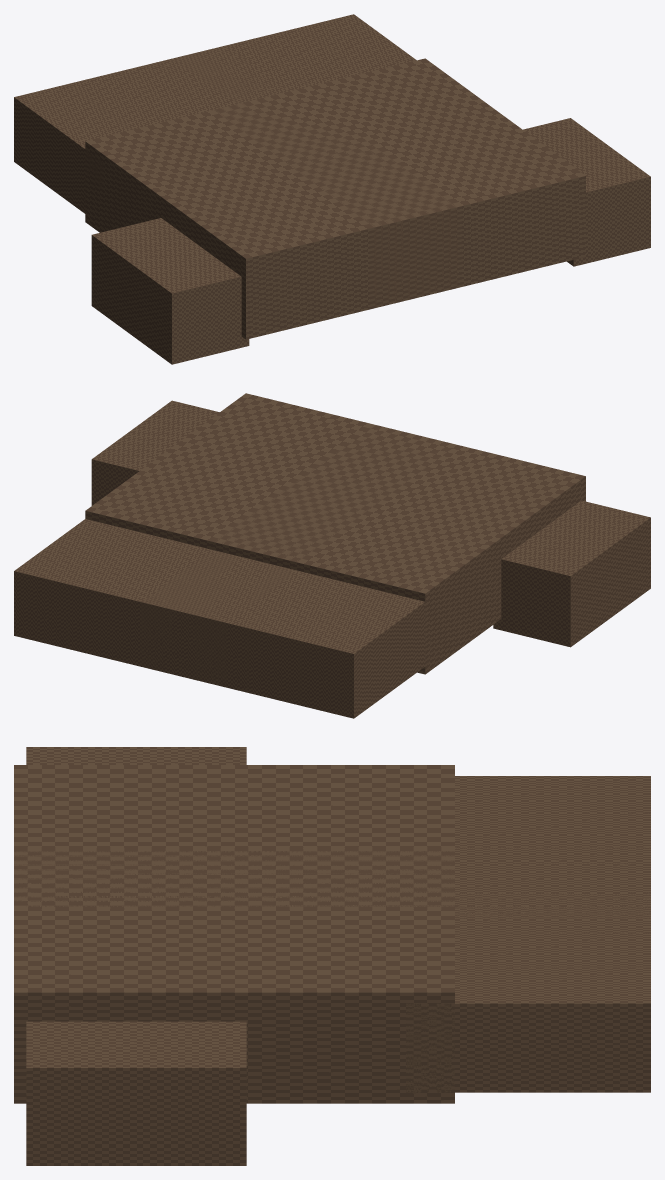
The model's file is hands.glb.
3 renders of one model, top to bottom at view 1: azimuth 30°, elevation 25°; view 2: azimuth 150°, elevation 25°; view 3: azimuth 270°, elevation 25°, orthographic. The views are drawn at different scales.
Parts seen in each view (by area): view 1: hands; view 2: hands; view 3: hands.
Part boxes in pixels (<box>): hands: <box>14,14,650,364</box>; hands: <box>14,393,650,718</box>; hands: <box>14,747,650,1165</box>.
Size of the model in its own units: 0.155 by 0.0285 by 0.13.
1 material, 1 textured.
